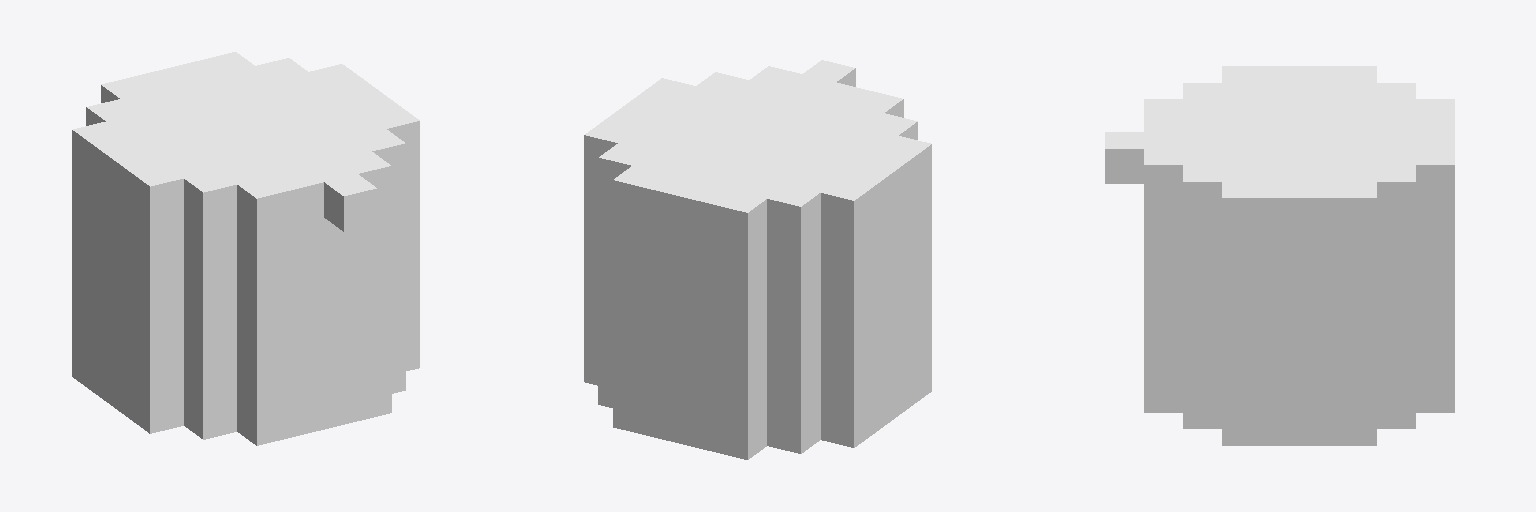
The model's file is OakStub.obj.
The picture shows the model from 3 angles: view 1: azimuth 30°, elevation 25°; view 2: azimuth 150°, elevation 25°; view 3: azimuth 270°, elevation 25°; orthographic projection.
Parts seen in each view (by area): view 1: object 1; view 2: object 1; view 3: object 1.
Part boxes in pixels (bbox=[...]): object 1: bbox=[72, 52, 419, 445]; object 1: bbox=[584, 60, 931, 459]; object 1: bbox=[1105, 66, 1454, 445].
Bounding box in the file's own units: 0.8 × 0.7 × 0.9.